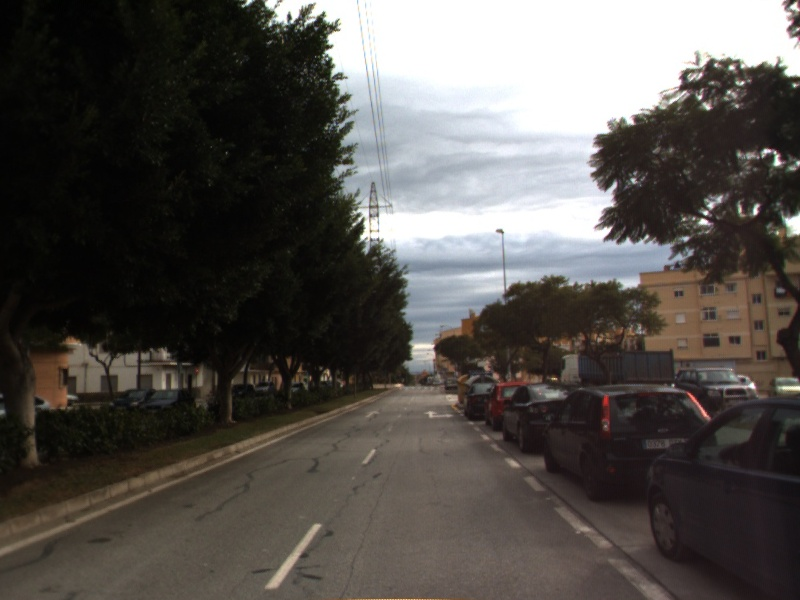STRAIGHT: (362, 408, 383, 420)
STRAIGHT_RIGHT: (421, 407, 457, 420)
